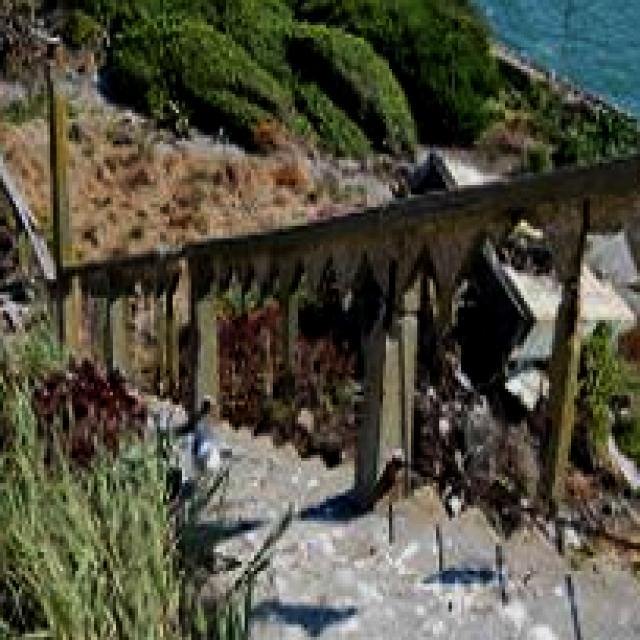downstair: (220, 424, 496, 640)
